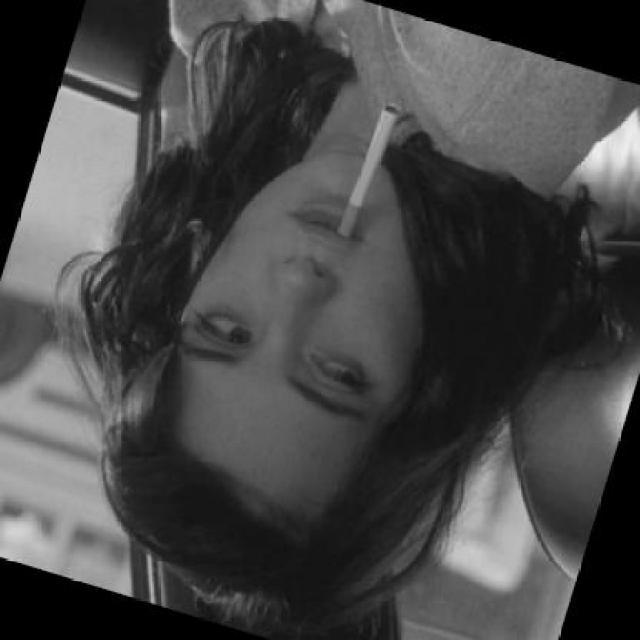smoke: (329, 96, 402, 244)
